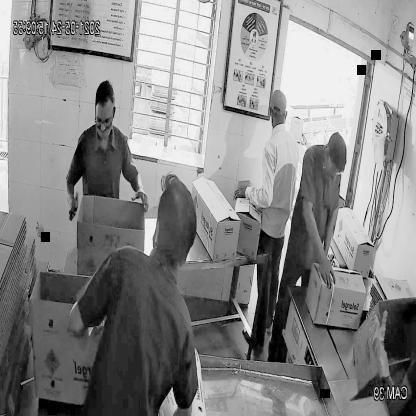goggles: (94, 105, 116, 131)
